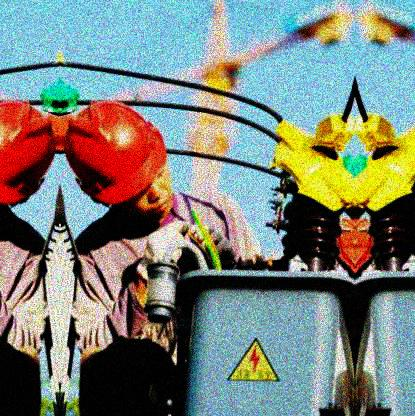helmet: (64, 100, 173, 215)
